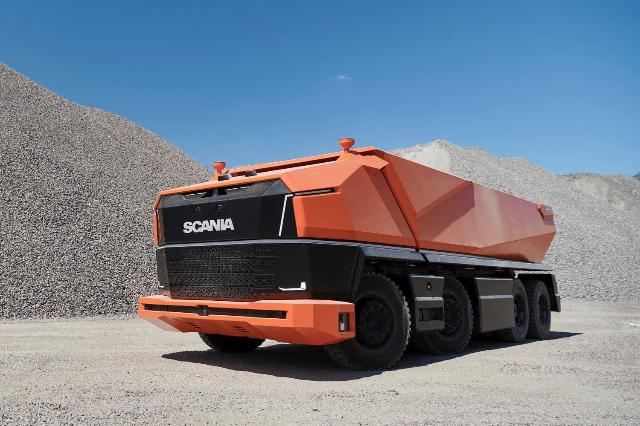truck: (147, 147, 587, 370)
